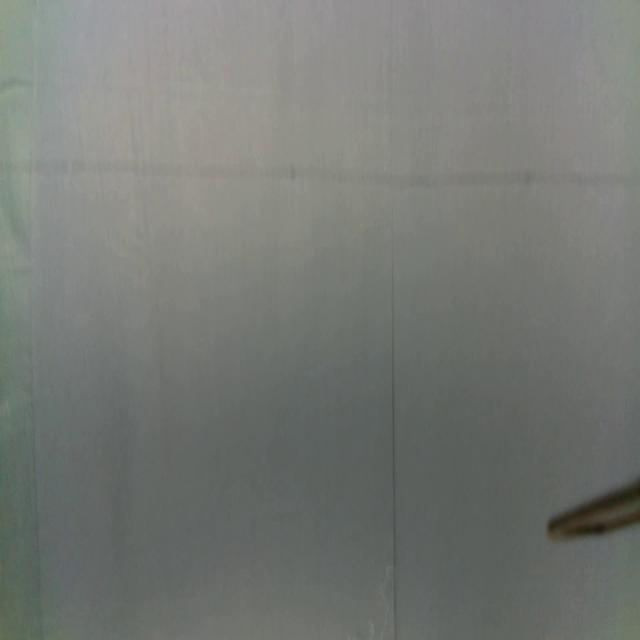color bleeding: (0, 149, 640, 214)
crease: (26, 231, 43, 627), (388, 219, 398, 640)
